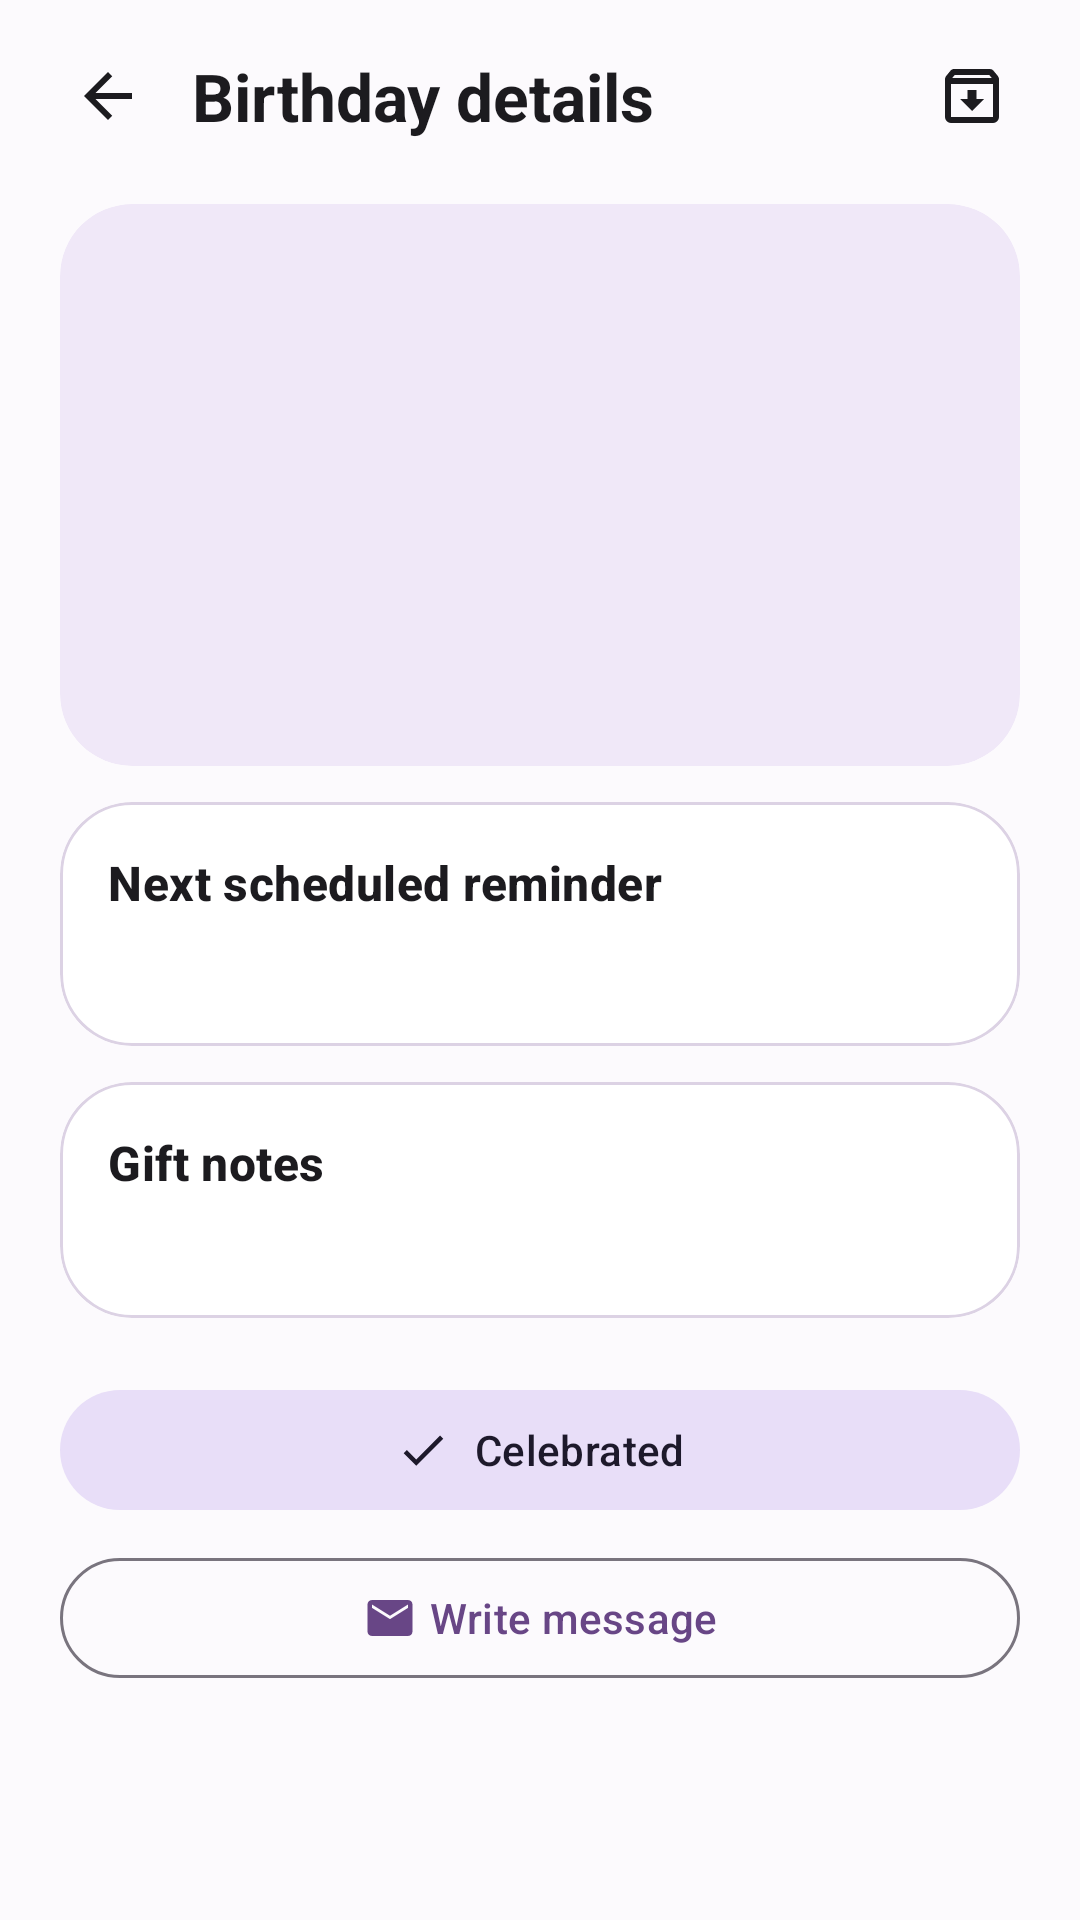

Icon bounding boxes for this 1080*1920 phone screenshot, format (x1, y1, x2, y2):
Archive: (945, 69, 999, 123)
Back: (84, 72, 132, 120)
